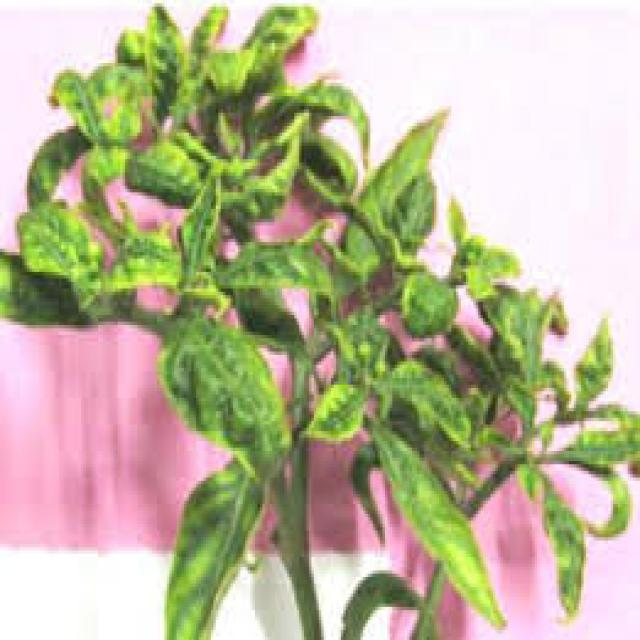Nutirtion_deficie: (15, 4, 334, 314), (229, 17, 493, 270), (294, 272, 482, 614), (122, 302, 314, 600), (469, 264, 640, 569)
